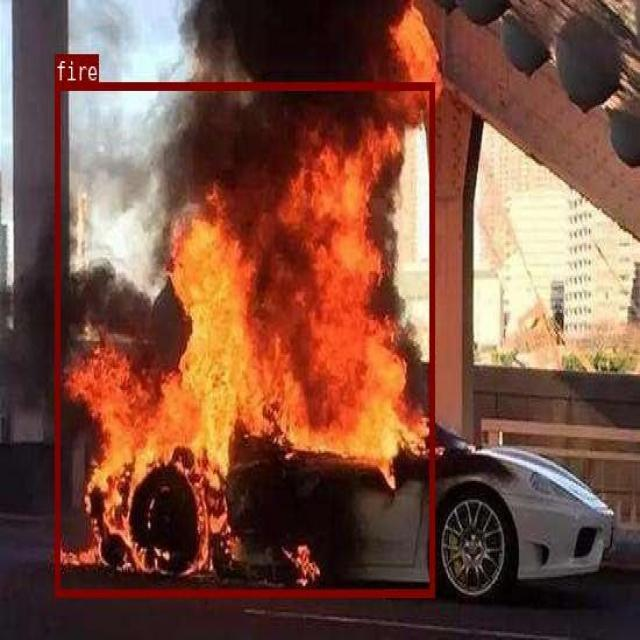fire: (55, 82, 433, 596)
